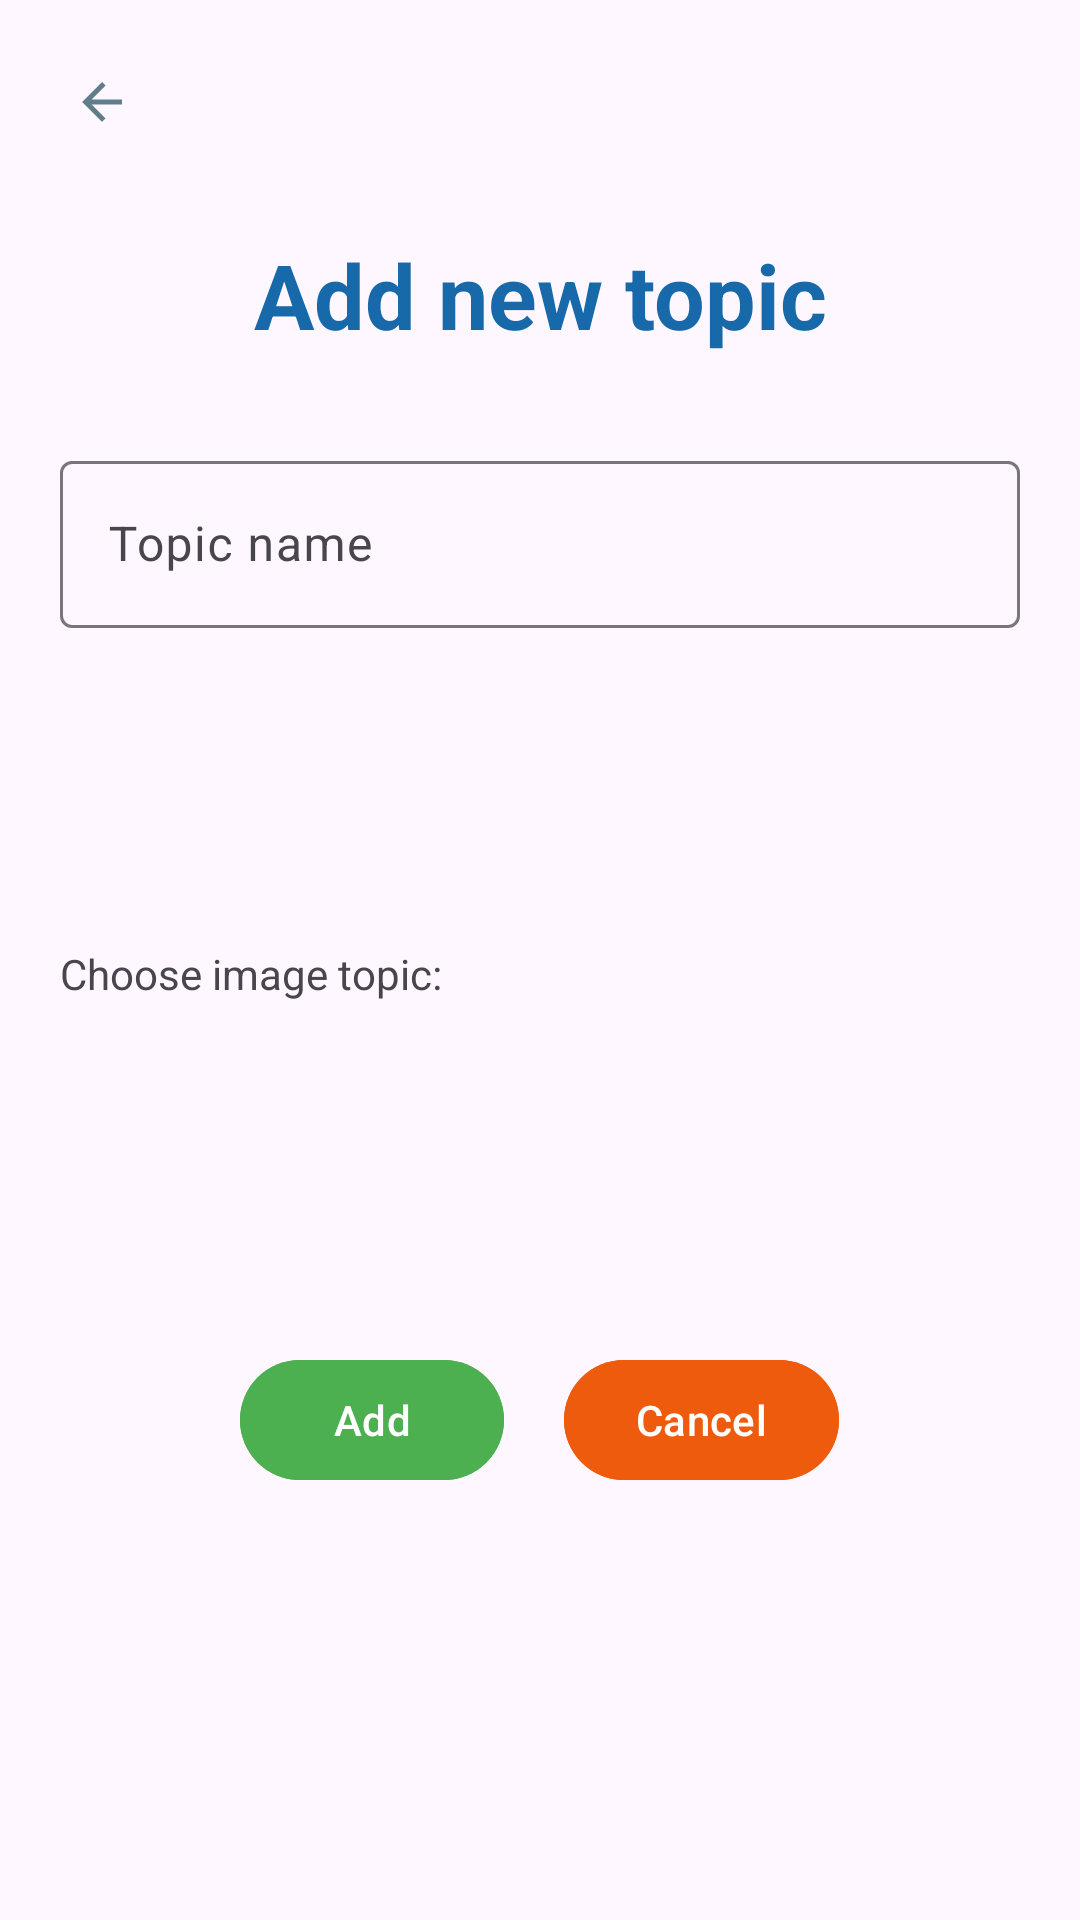

Screen size 1080 x 1920. Icon name, then its center in pixels as [x,y]:
arrow back: [102,102]
